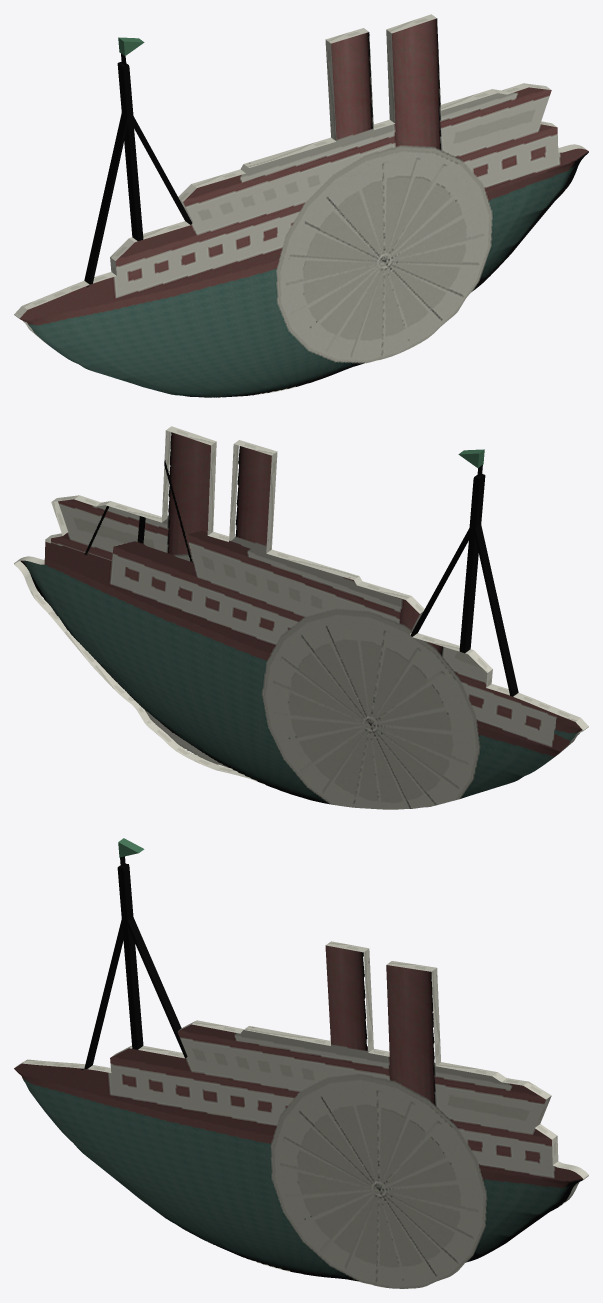
Rendered from boatFloat.fbx.
The picture shows the model from 3 angles, top to bottom: view 1: azimuth 30°, elevation 25°; view 2: azimuth 150°, elevation 25°; view 3: azimuth 330°, elevation 25°; orthographic projection.
Parts seen in each view (by area): view 1: boatp:polySurface2group2group; view 2: boatp:polySurface2group2group; view 3: boatp:polySurface2group2group.
Part boxes in pixels (bbox=[...]): boatp:polySurface2group2group: bbox=[14, 14, 588, 397]; boatp:polySurface2group2group: bbox=[14, 426, 588, 809]; boatp:polySurface2group2group: bbox=[14, 838, 588, 1288].
Size of the model in its own units: 67.11 by 43.68 by 1.15.
3 materials, 1 textured.
